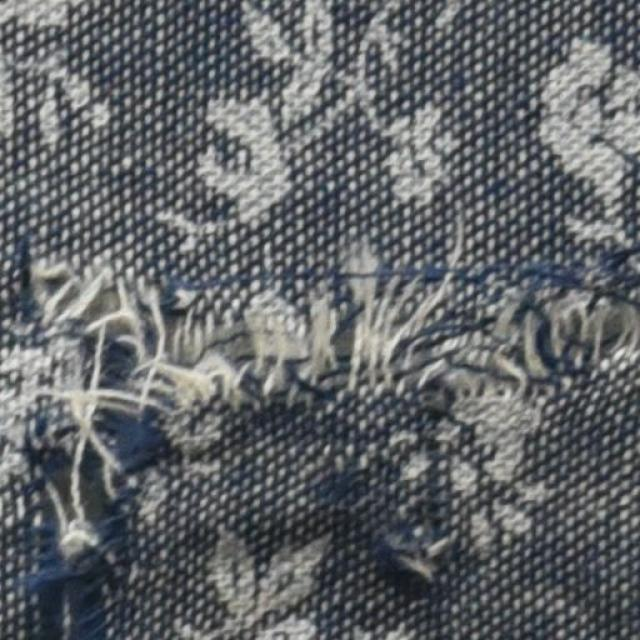Snag: (14, 243, 639, 639), (380, 515, 458, 593)
